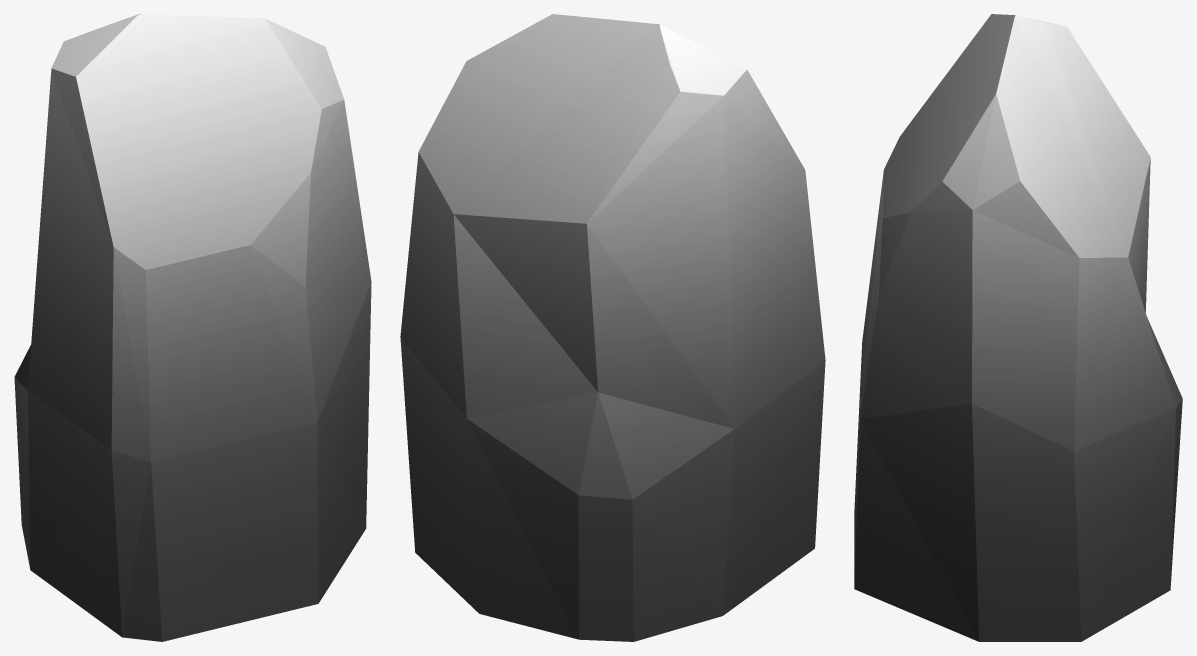
Rendered from CrystalShard_A.fbx.
The picture shows the model from 3 angles, left to right: view 1: azimuth 30°, elevation 25°; view 2: azimuth 150°, elevation 25°; view 3: azimuth 270°, elevation 25°; orthographic projection. The views are drawn at different scales.
Parts seen in each view (by area): view 1: CrystalShard_A; view 2: CrystalShard_A; view 3: CrystalShard_A.
Part boxes in pixels (x1,y1,x2,y2): CrystalShard_A: (14,14,371,641); CrystalShard_A: (400,14,825,641); CrystalShard_A: (854,14,1182,641).
Size of the model in its own units: 103 by 167 by 94.2.
Materials: 1 (1 with a texture image).
